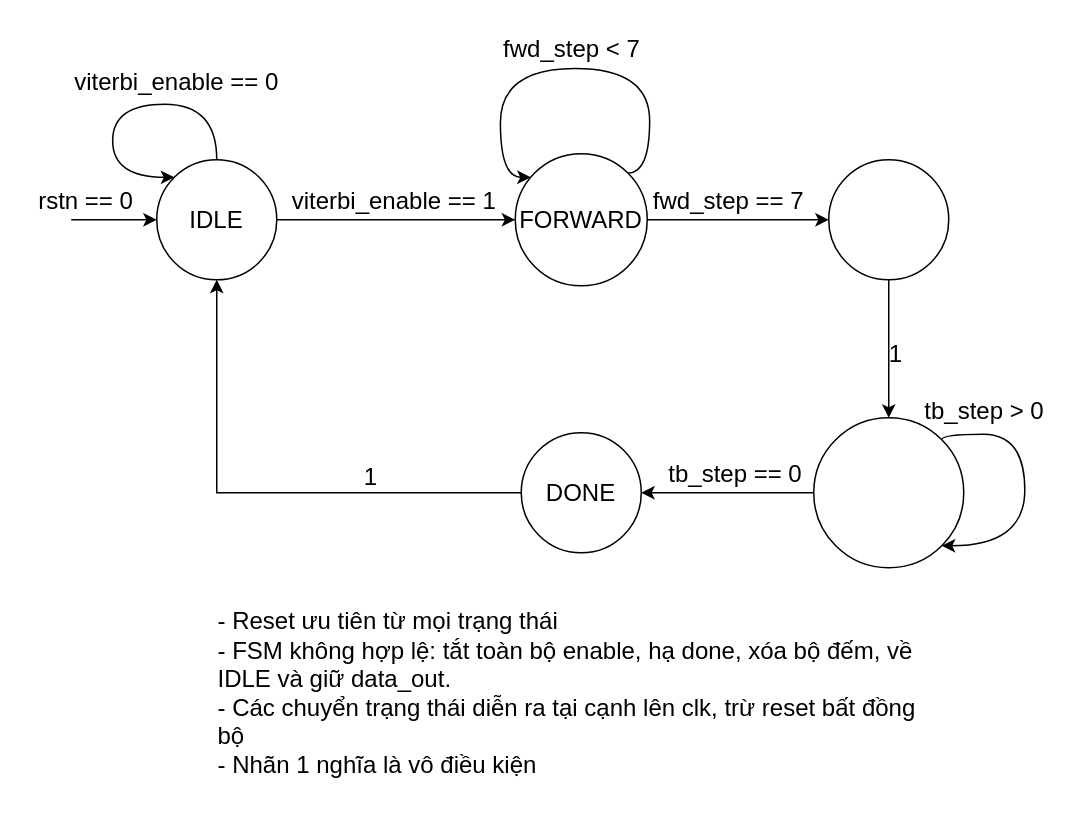
Image size: 1085x833. Some labels were removed from this diagram. The centre of each missing label's shape, as x and y in pixels:
SELECT: [888,219]
TRACEBACK: [888,492]
